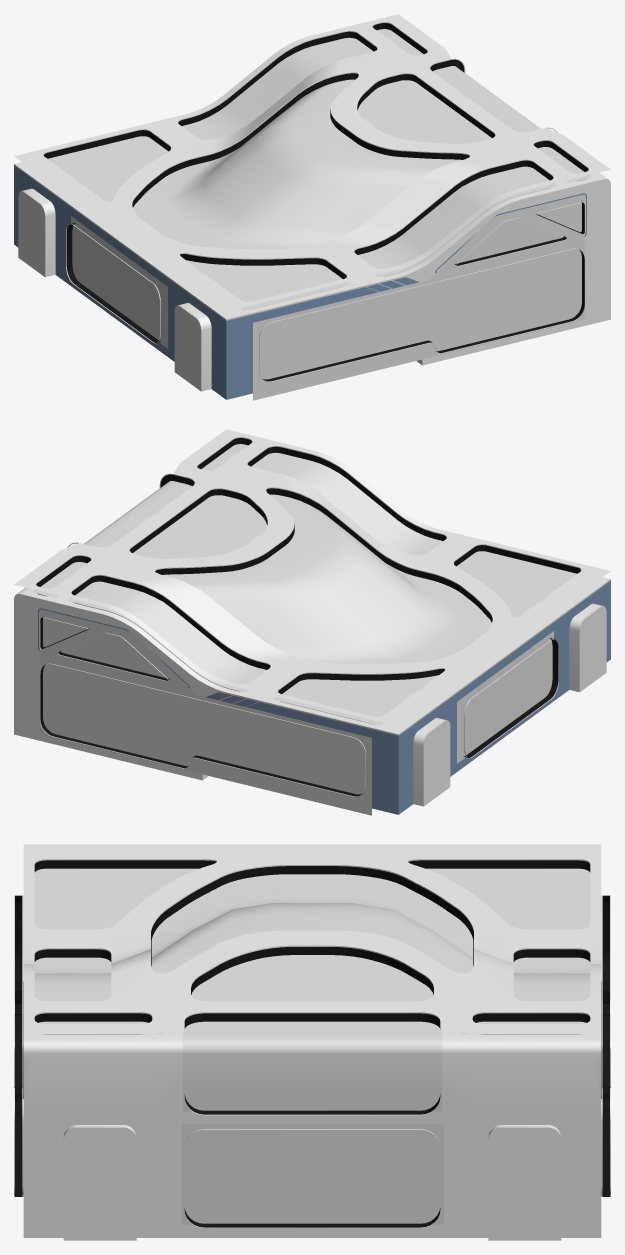
The model's file is MainFinal (3).fbx.
The picture shows the model from 3 angles, top to bottom: view 1: azimuth 30°, elevation 25°; view 2: azimuth 150°, elevation 25°; view 3: azimuth 270°, elevation 25°; orthographic projection. The views are drawn at different scales.
Visible parts, largest first — view 1: Plane.001, Plane.017, Plane.010, Plane, Plane.014, Plane.012, Plane.013, Plane.015, Plane.011; view 2: Plane.001, Plane.017, Plane.010, Plane, Plane.014, Plane.012, Plane.013, Plane.015, Plane.011; view 3: Plane.001, Plane, Plane.016, Plane.011, Plane.010, Plane.012, Plane.013, Plane.014.
Boxes of the visible parts, box(x1,y1,x2,y2) form: Plane.001: box(14, 14, 610, 319); Plane.017: box(253, 194, 584, 400); Plane.010: box(133, 79, 461, 249); Plane: box(14, 164, 610, 399); Plane.014: box(182, 37, 556, 277); Plane.012: box(48, 136, 351, 310); Plane.013: box(357, 29, 592, 182); Plane.015: box(71, 216, 167, 348); Plane.011: box(433, 66, 540, 132); Plane.001: box(14, 429, 610, 734); Plane.017: box(40, 609, 371, 815); Plane.010: box(163, 494, 491, 664); Plane: box(14, 579, 610, 814); Plane.014: box(68, 452, 442, 692); Plane.012: box(273, 551, 576, 725); Plane.013: box(32, 444, 267, 597); Plane.015: box(457, 631, 553, 763); Plane.011: box(84, 481, 191, 547); Plane.001: box(14, 844, 610, 1115); Plane: box(14, 895, 610, 1240); Plane.016: box(181, 1123, 443, 1224); Plane.011: box(182, 1021, 442, 1111); Plane.010: box(151, 874, 473, 973); Plane.012: box(34, 868, 590, 929); Plane.013: box(39, 955, 585, 1034); Plane.014: box(34, 957, 590, 1001).
Size of the model in its own units: 1570 by 558 by 1483.
